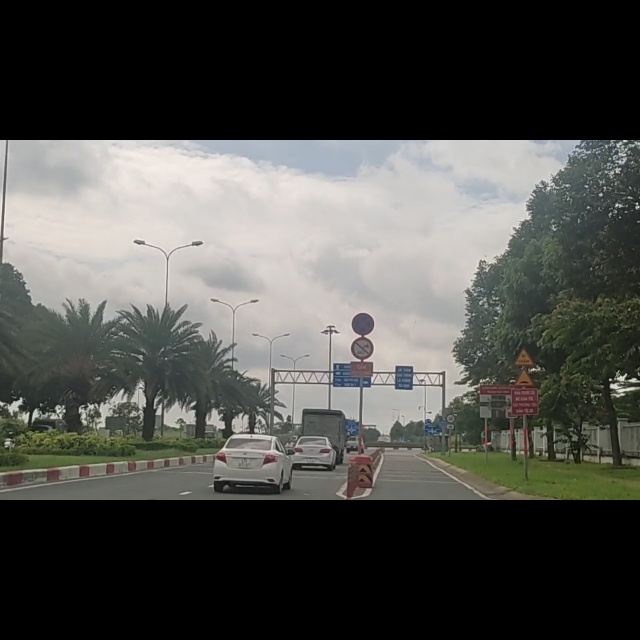bien_nguy_hiem: (349, 346, 376, 390), (348, 306, 376, 346), (512, 369, 537, 403), (514, 404, 534, 436)
